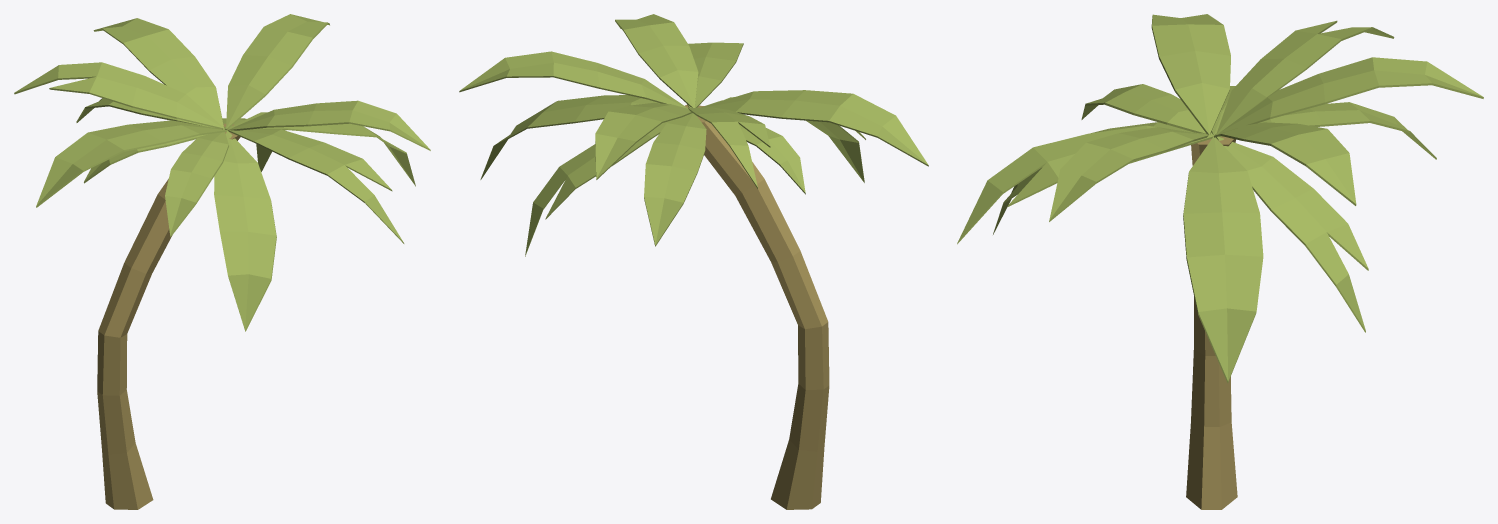
File: Palm_Tree.fbx
3 views of the same model, side by side, from view 1: azimuth 30°, elevation 25°; view 2: azimuth 150°, elevation 25°; view 3: azimuth 270°, elevation 25° (orthographic). The views are drawn at different scales.
Visible parts, largest first — view 1: Body, Leaf.008, Leaf.004, Leaf.013, Leaf.005, Leaf.007, Leaf.012, Leaf.003, Leaf.011, Leaf.002, Leaf.010, Leaf.009; view 2: Body, Leaf.007, Leaf.009, Leaf.013, Leaf.003, Leaf.005, Leaf.002, Leaf.006, Leaf.004, Leaf.012, Leaf.010, Leaf.008; view 3: Leaf.002, Body, Leaf.006, Leaf.007, Leaf.005, Leaf.004, Leaf.003, Leaf.013, Leaf.012, Leaf.011, Leaf.009, Leaf.008.
Part boxes in pixels (left/top/right/bottom): Body: left=97, top=123, right=240, bottom=509; Leaf.008: left=214, top=130, right=276, bottom=331; Leaf.004: left=14, top=62, right=224, bottom=129; Leaf.013: left=226, top=14, right=329, bottom=128; Leaf.005: left=93, top=18, right=224, bottom=129; Leaf.007: left=36, top=120, right=227, bottom=207; Leaf.012: left=225, top=128, right=404, bottom=243; Leaf.003: left=229, top=100, right=430, bottom=150; Leaf.011: left=165, top=132, right=228, bottom=236; Leaf.002: left=229, top=112, right=415, bottom=186; Leaf.010: left=84, top=134, right=210, bottom=183; Leaf.009: left=76, top=98, right=214, bottom=127; Body: left=685, top=105, right=829, bottom=509; Leaf.007: left=701, top=90, right=928, bottom=166; Leaf.009: left=644, top=113, right=706, bottom=246; Leaf.013: left=459, top=51, right=687, bottom=108; Leaf.003: left=615, top=14, right=698, bottom=107; Leaf.005: left=595, top=103, right=692, bottom=179; Leaf.002: left=480, top=95, right=659, bottom=179; Leaf.006: left=525, top=119, right=676, bottom=256; Leaf.004: left=688, top=107, right=770, bottom=188; Leaf.012: left=687, top=42, right=743, bottom=107; Leaf.010: left=739, top=124, right=805, bottom=194; Leaf.008: left=705, top=100, right=864, bottom=182; Leaf.002: left=1183, top=136, right=1263, bottom=383; Body: left=1186, top=136, right=1237, bottom=509; Leaf.006: left=1216, top=136, right=1368, bottom=332; Leaf.007: left=1151, top=14, right=1230, bottom=134; Leaf.005: left=1214, top=57, right=1483, bottom=135; Leaf.004: left=1216, top=20, right=1394, bottom=134; Leaf.003: left=1049, top=127, right=1208, bottom=221; Leaf.013: left=1214, top=122, right=1356, bottom=205; Leaf.012: left=957, top=125, right=1214, bottom=244; Leaf.011: left=1081, top=84, right=1212, bottom=135; Leaf.009: left=1219, top=102, right=1436, bottom=159; Leaf.008: left=993, top=122, right=1204, bottom=234.
Size of the model in its own units: 366 by 344 by 344.
